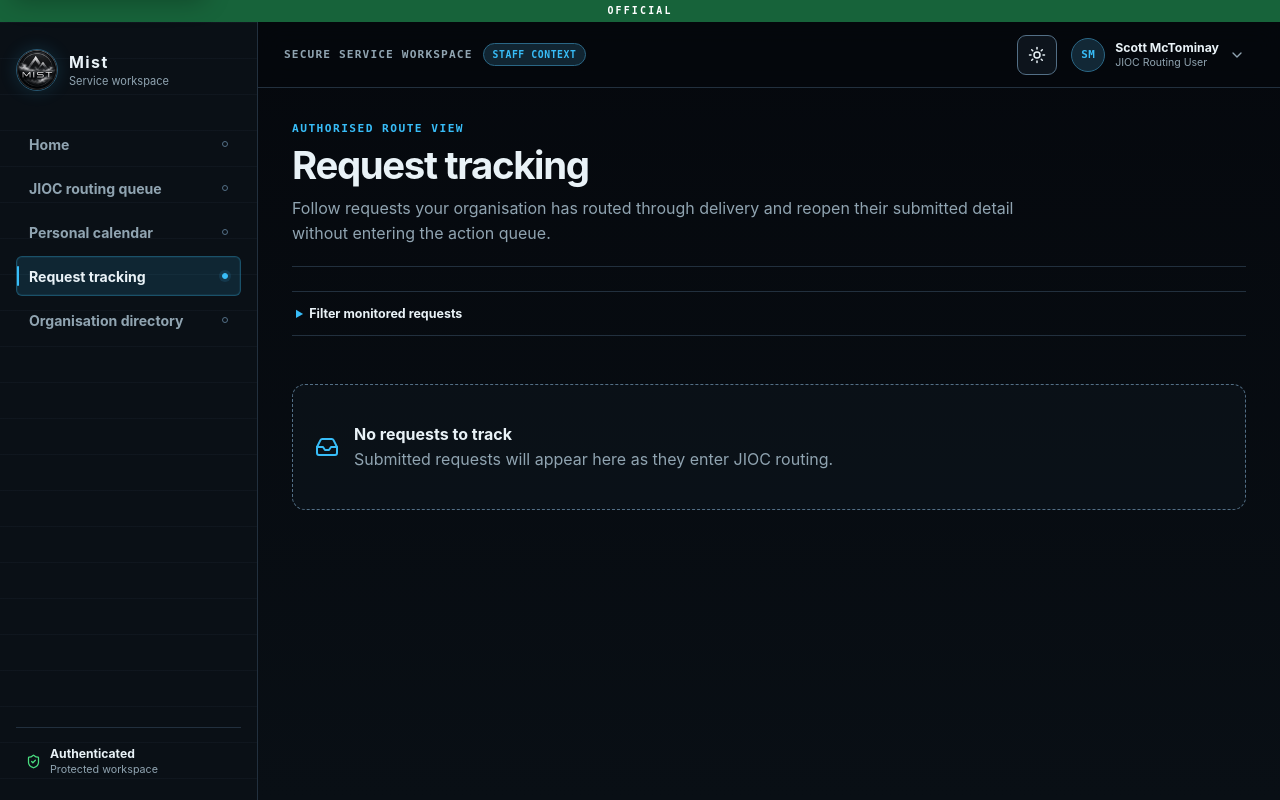
Test: Customer and staff context switching › adopts a server-side context change when the switch response is lost
Expected: the heading "Request tracking" is shown, 292,142 -> 589,188
Click the button with aria-label "Open account menu" at (1160, 54), box 1065,32 -> 1254,76
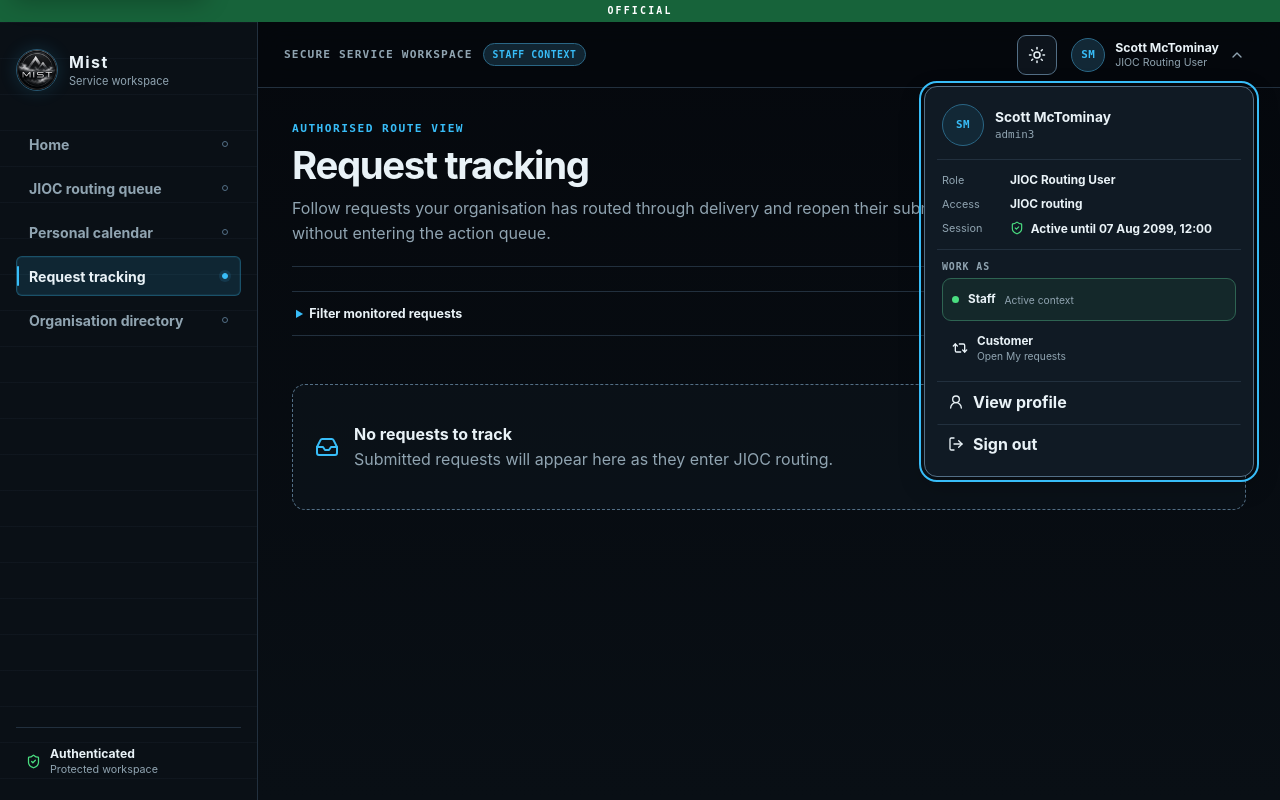
Click the button with aria-label "Switch to Customer context" at (1005, 341), box 942,326 -> 1236,370
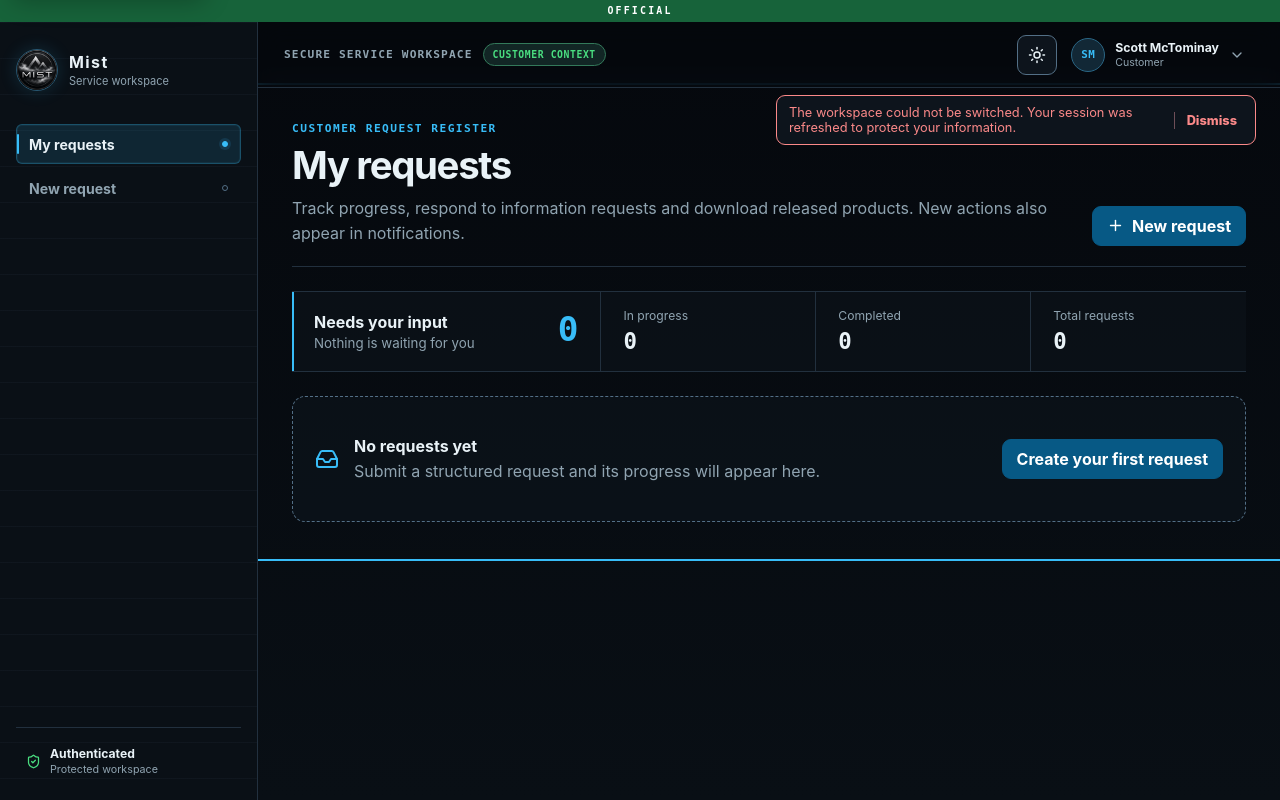
Now the heading "My requests" is shown, box 292,142 -> 511,188
Now the message shows "workspace could not be switched", box 789,105 -> 1132,135
